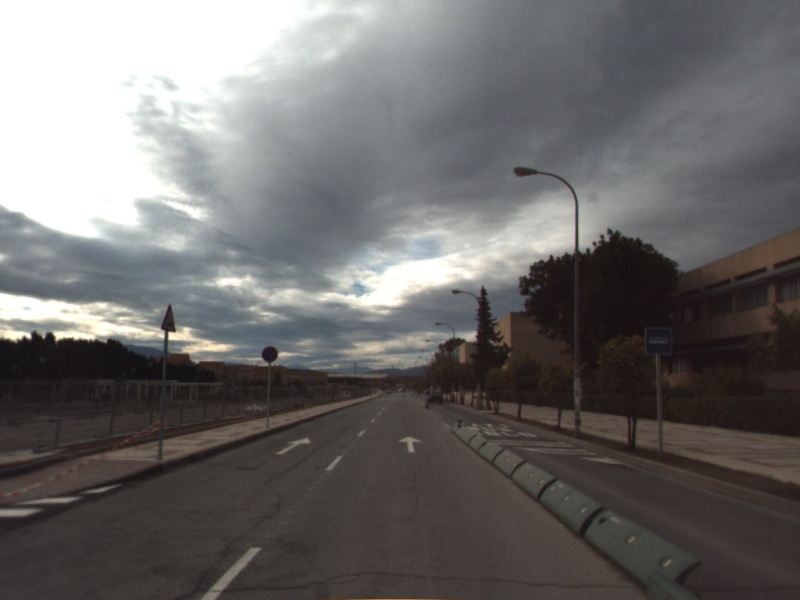STRAIGHT: (273, 435, 313, 457), (396, 434, 425, 455)
